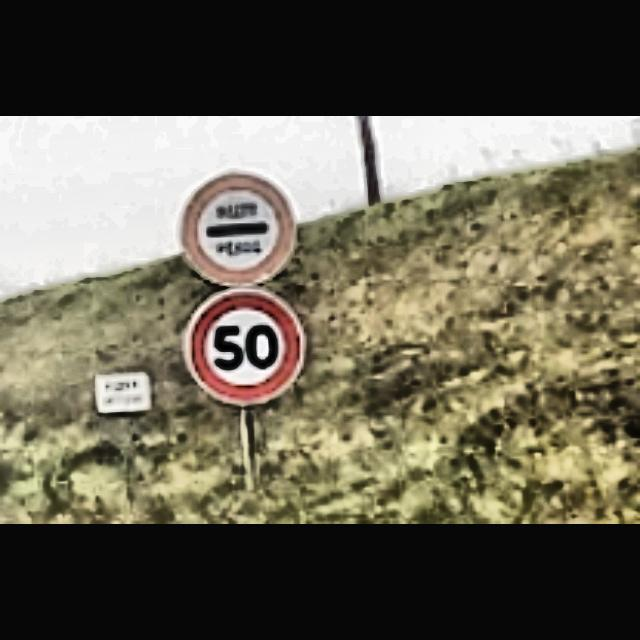speed_50: (187, 288, 305, 408)
